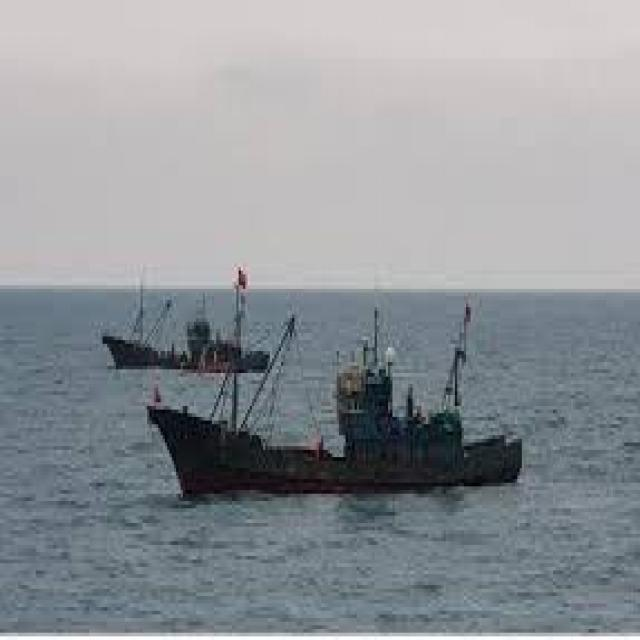Ship: (144, 367, 541, 525), (86, 261, 287, 386)
